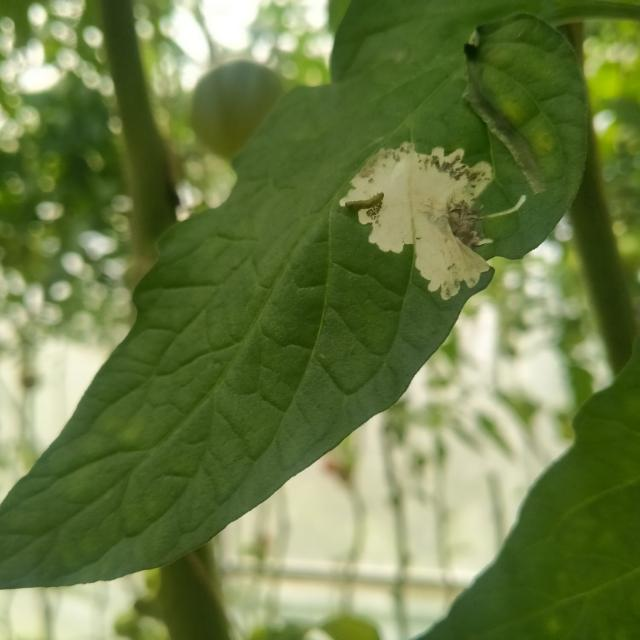Larvae: (345, 192, 384, 211)
